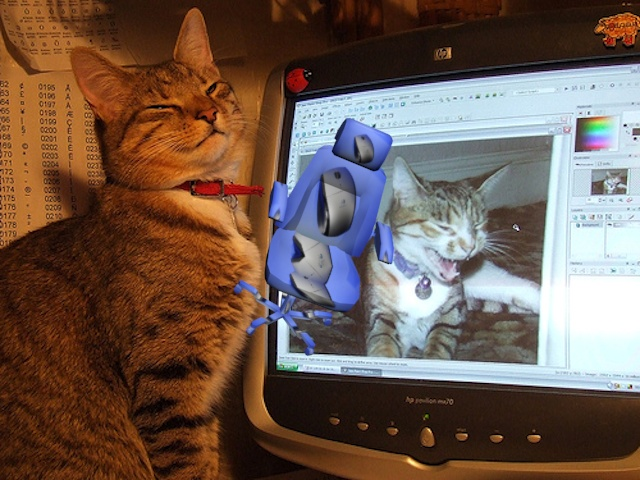desk_chair: (224, 112, 401, 369)
